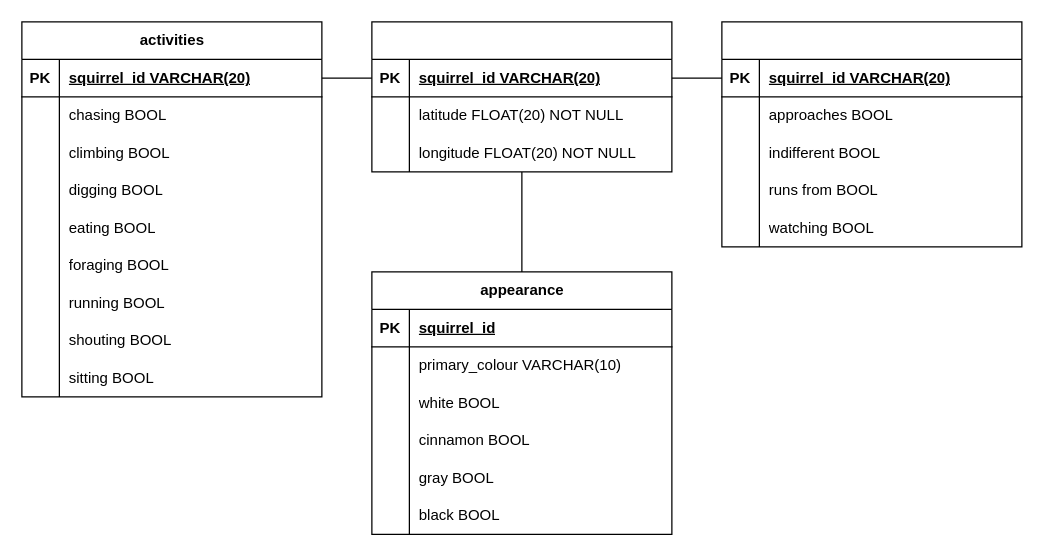
This 1044x556 diagram has some shape labels left out. The shapes that lost their labels are listed below. From the top down, each one's box as (x1, y1, x2, y2) in pixels, then its label:
(371, 21, 672, 172): location
(721, 21, 1022, 247): interactions
